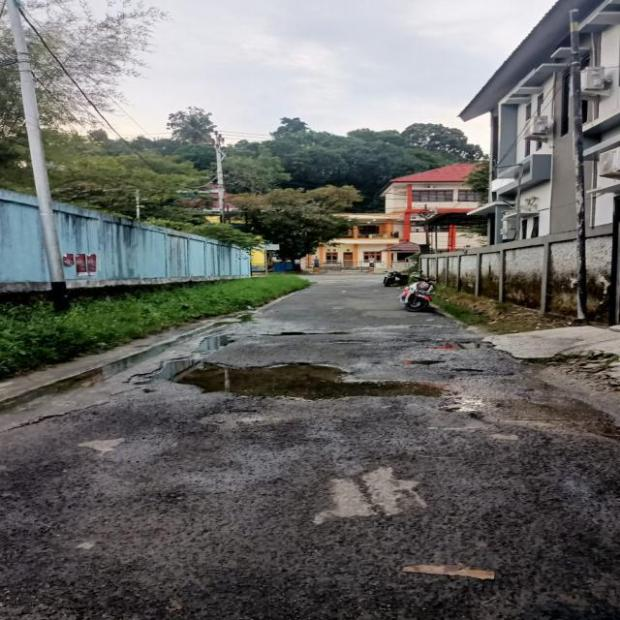lubang: (447, 369, 619, 449), (131, 357, 441, 397), (494, 346, 619, 391), (410, 338, 492, 351), (191, 333, 235, 353), (235, 331, 351, 335), (450, 363, 487, 374), (404, 360, 446, 366)
